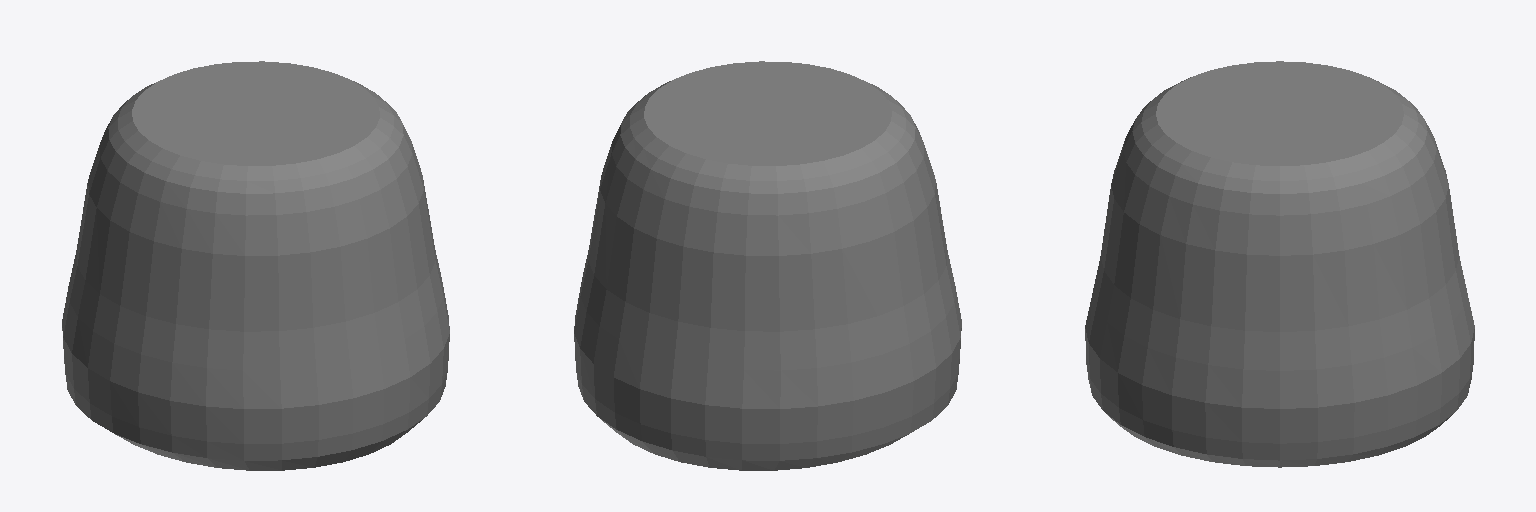
The model's file is sagamihara_isu_objver.obj.
3 renders of one model, left to right at view 1: azimuth 30°, elevation 25°; view 2: azimuth 150°, elevation 25°; view 3: azimuth 270°, elevation 25°, orthographic.
Parts seen in each view (by area): view 1: Cylinder; view 2: Cylinder; view 3: Cylinder.
Boxes of the visible parts, <box> form: Cylinder: <box>62,61,449,470</box>; Cylinder: <box>574,61,961,470</box>; Cylinder: <box>1085,61,1474,467</box>.
Size of the model in its own units: 2.48 by 2 by 2.49.